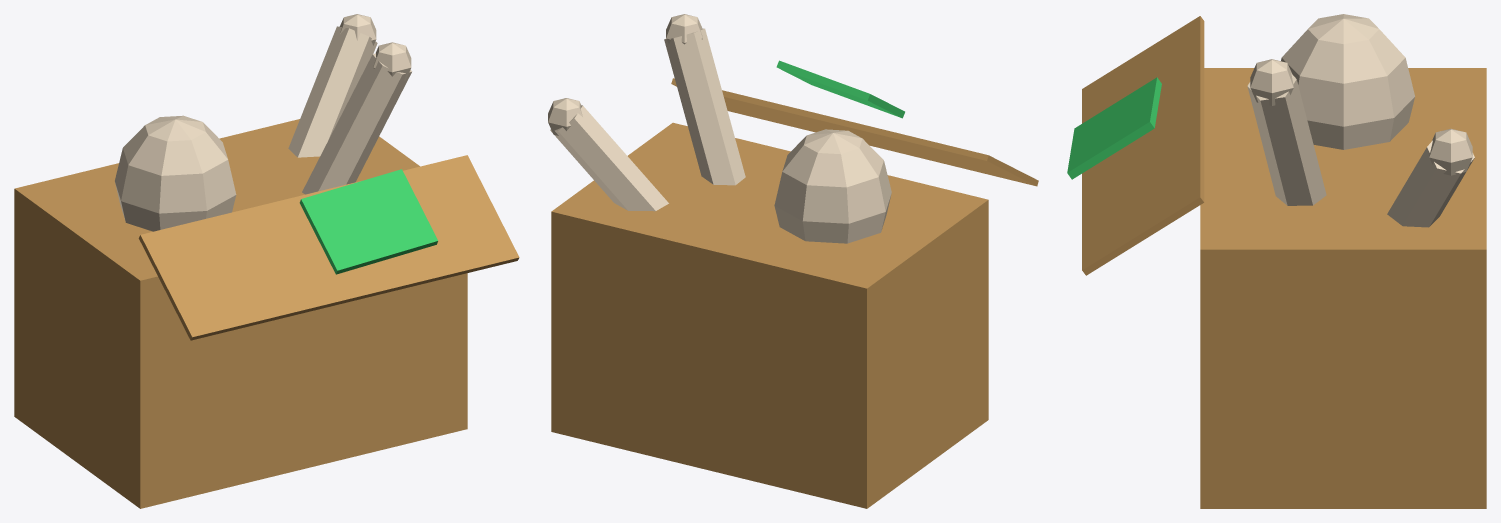
Rendered from gym_dummy_box.glb.
3 views of the same model, side by side, from view 1: azimuth 30°, elevation 25°; view 2: azimuth 150°, elevation 25°; view 3: azimuth 270°, elevation 25° (orthographic). The views are drawn at different scales.
Visible parts, largest first — view 1: box_box_card, arms_mannequin_plastic, head_mannequin_plastic, tank_mannequin_tank; view 2: box_box_card, arms_mannequin_plastic, head_mannequin_plastic, tank_mannequin_tank; view 3: box_box_card, head_mannequin_plastic, arms_mannequin_plastic, tank_mannequin_tank.
Part boxes in pixels (x1=…): box_box_card: x1=14, y1=119, x2=519, y2=508; arms_mannequin_plastic: x1=288, y1=14, x2=411, y2=194; head_mannequin_plastic: x1=115, y1=115, x2=236, y2=231; tank_mannequin_tank: x1=299, y1=169, x2=437, y2=274; box_box_card: x1=551, y1=78, x2=1038, y2=508; arms_mannequin_plastic: x1=548, y1=14, x2=745, y2=211; head_mannequin_plastic: x1=774, y1=129, x2=891, y2=243; tank_mannequin_tank: x1=776, y1=60, x2=904, y2=118; box_box_card: x1=1082, y1=16, x2=1486, y2=508; head_mannequin_plastic: x1=1281, y1=14, x2=1414, y2=149; arms_mannequin_plastic: x1=1247, y1=59, x2=1474, y2=227; tank_mannequin_tank: x1=1067, y1=77, x2=1161, y2=179.
Size of the model in its own units: 0.635 by 0.655 by 0.5862.
